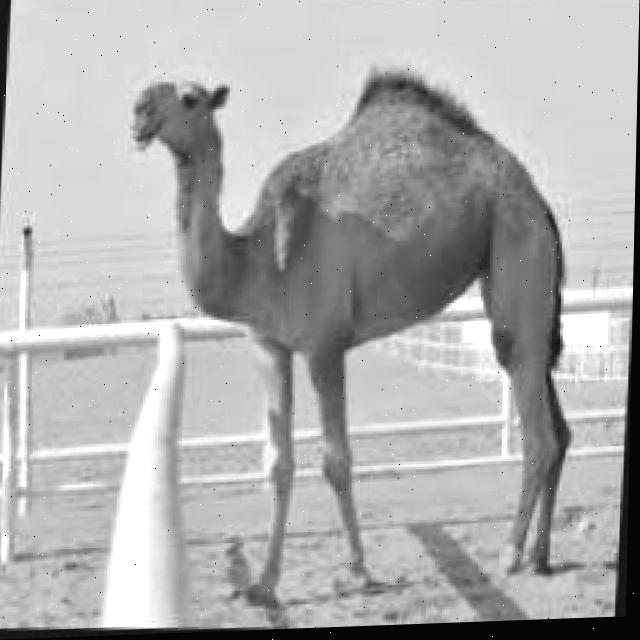Camel: (114, 58, 579, 625)
